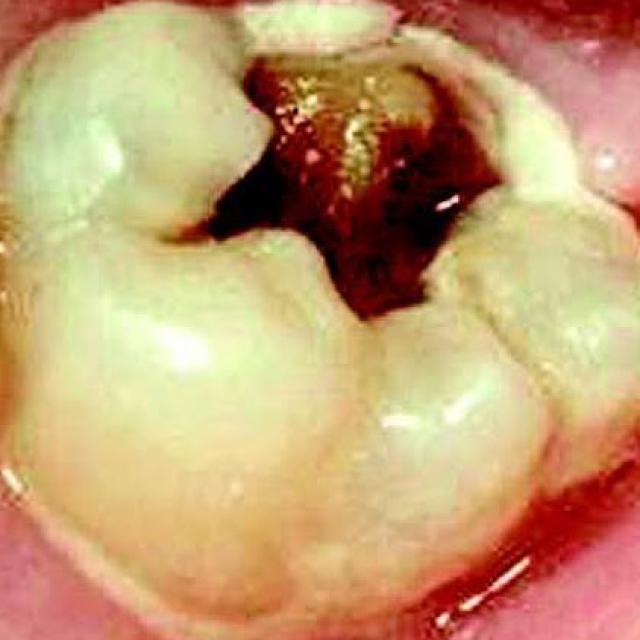Carrier: (168, 30, 520, 326)
